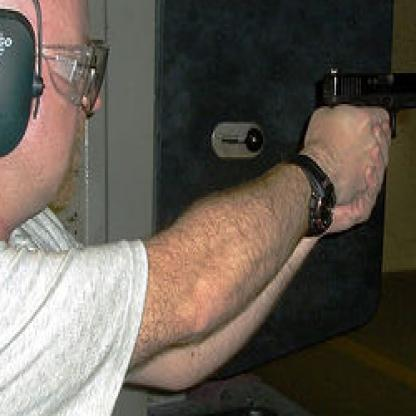gun: (302, 49, 414, 212)
